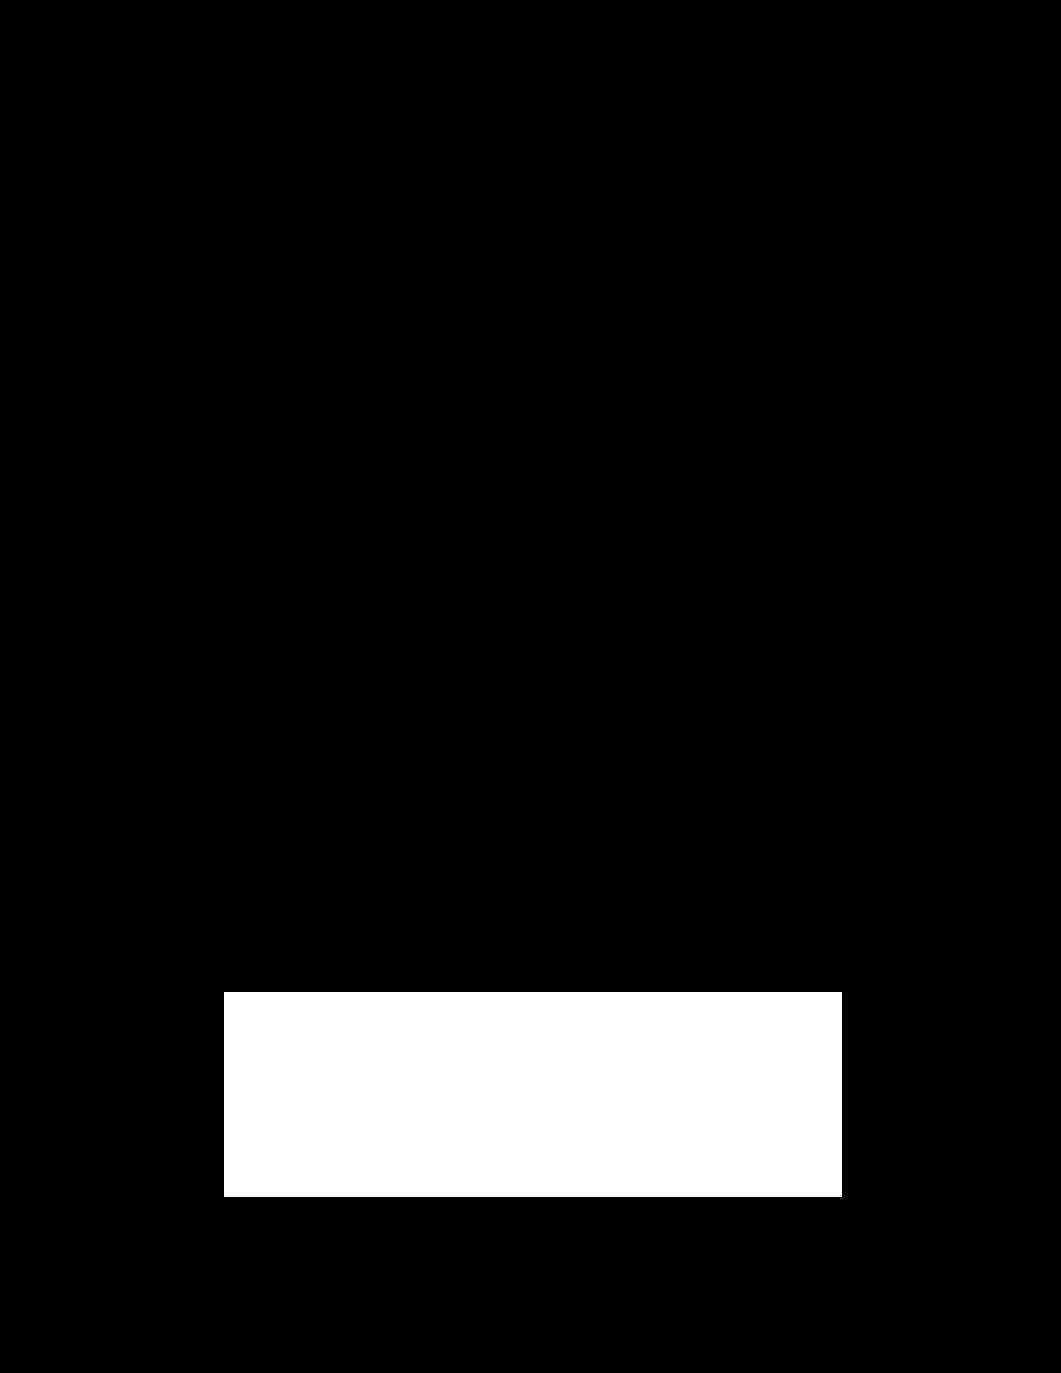table: (224, 992, 841, 1196)
